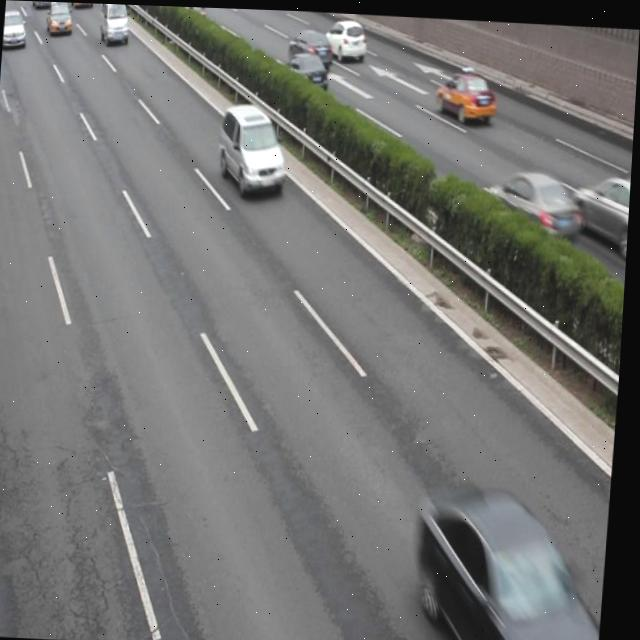car: (417, 478, 614, 640), (488, 161, 582, 233), (574, 163, 633, 250), (434, 61, 496, 121), (287, 26, 333, 70), (323, 15, 367, 57), (285, 50, 330, 87), (2, 9, 27, 48), (46, 1, 73, 37), (176, 5, 205, 16), (71, 2, 93, 7), (31, 1, 53, 6)
truck: (218, 101, 290, 195), (99, 3, 130, 45)
